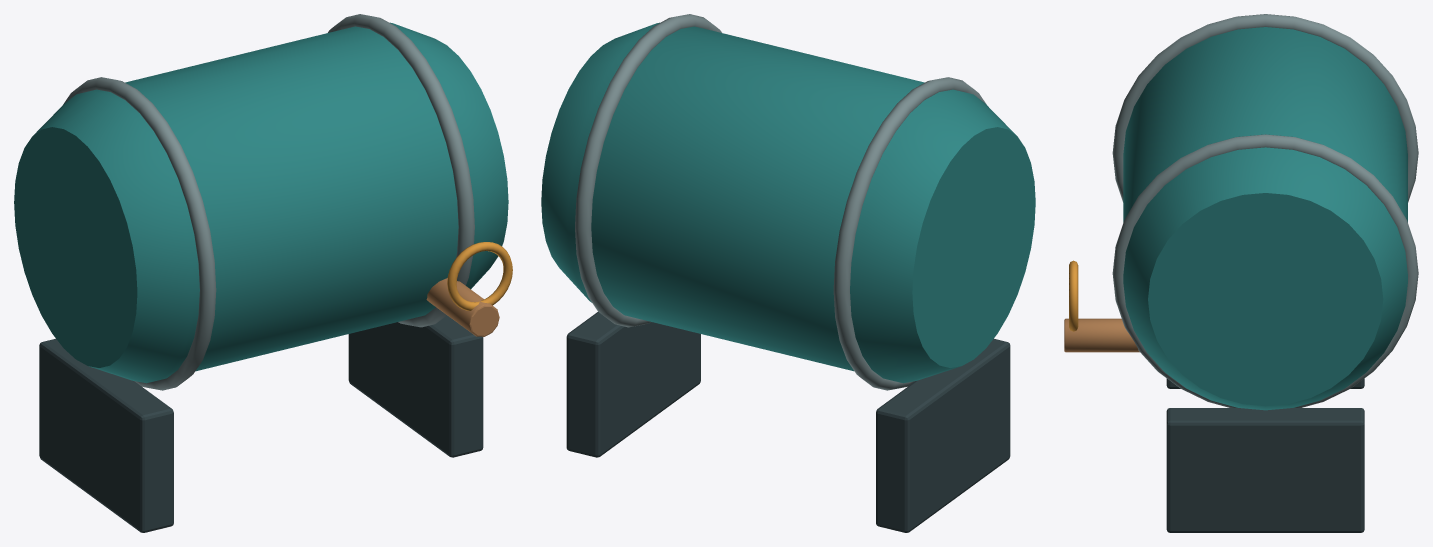
File: SM_WaterTank.fbx
The picture shows the model from 3 angles, left to right: view 1: azimuth 30°, elevation 25°; view 2: azimuth 150°, elevation 25°; view 3: azimuth 270°, elevation 25°; orthographic projection. The views are drawn at different scales.
Parts seen in each view (by area): view 1: SM_WaterTank; view 2: SM_WaterTank; view 3: SM_WaterTank.
Boxes of the visible parts, left/top/right/bottom form: SM_WaterTank: left=14, top=14, right=512, bottom=532; SM_WaterTank: left=541, top=14, right=1035, bottom=532; SM_WaterTank: left=1064, top=14, right=1418, bottom=532.
Size of what is drawn, in the model's own units: 1.32 by 1.14 by 1.35.
